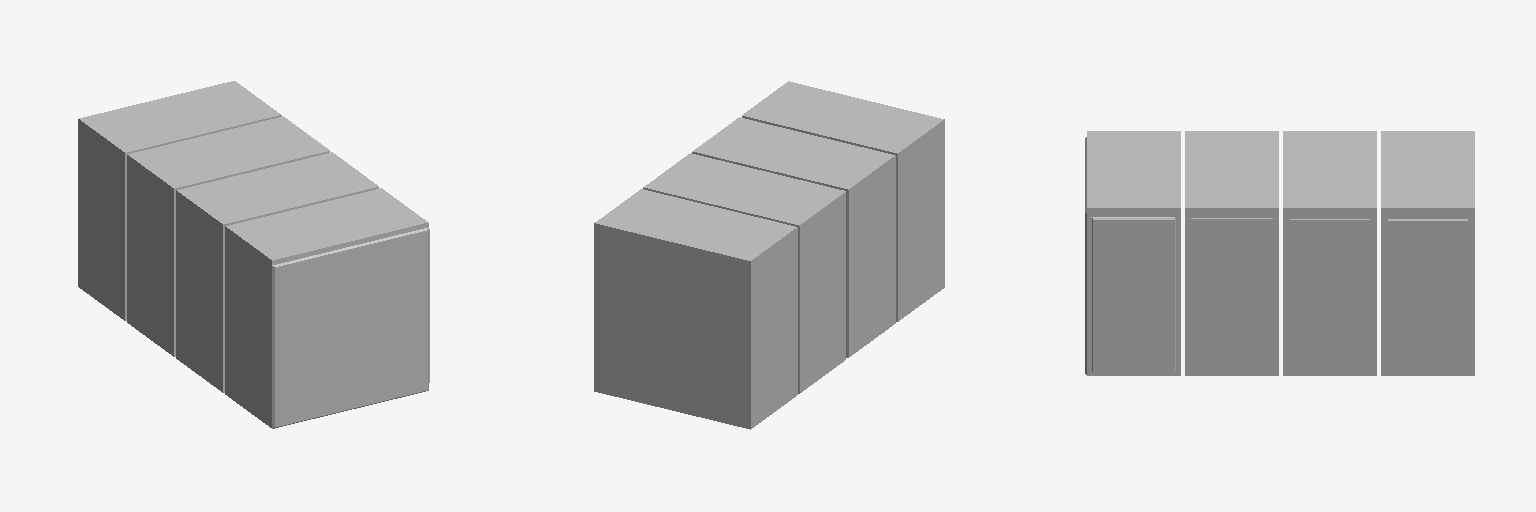
3 renders of one model, left to right at view 1: azimuth 30°, elevation 25°; view 2: azimuth 150°, elevation 25°; view 3: azimuth 270°, elevation 25°, orthographic.
Parts seen in each view (by area): view 1: server; view 2: server; view 3: server.
Boxes of the visible parts, x1=… form: server: x1=78, y1=81, x2=429, y2=428; server: x1=594, y1=81, x2=944, y2=429; server: x1=1085, y1=131, x2=1474, y2=375.
Bounding box in the file's own units: 205 × 209 × 432.